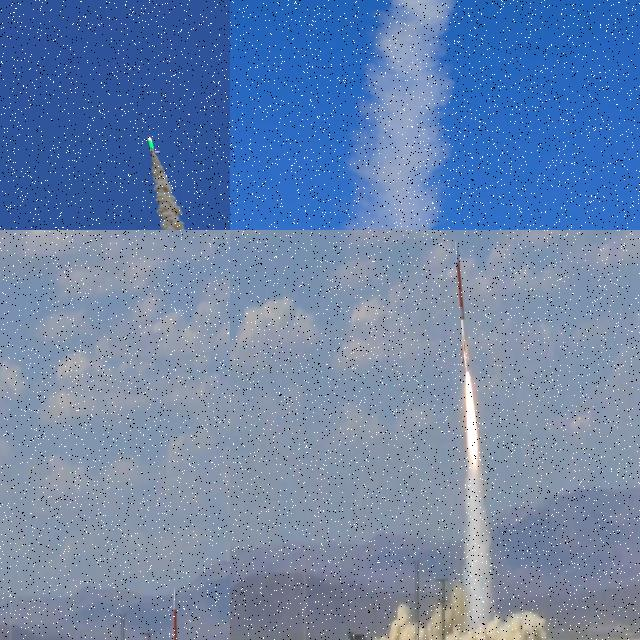Rocket: (456, 242, 470, 374), (168, 588, 177, 640), (147, 136, 161, 156)
